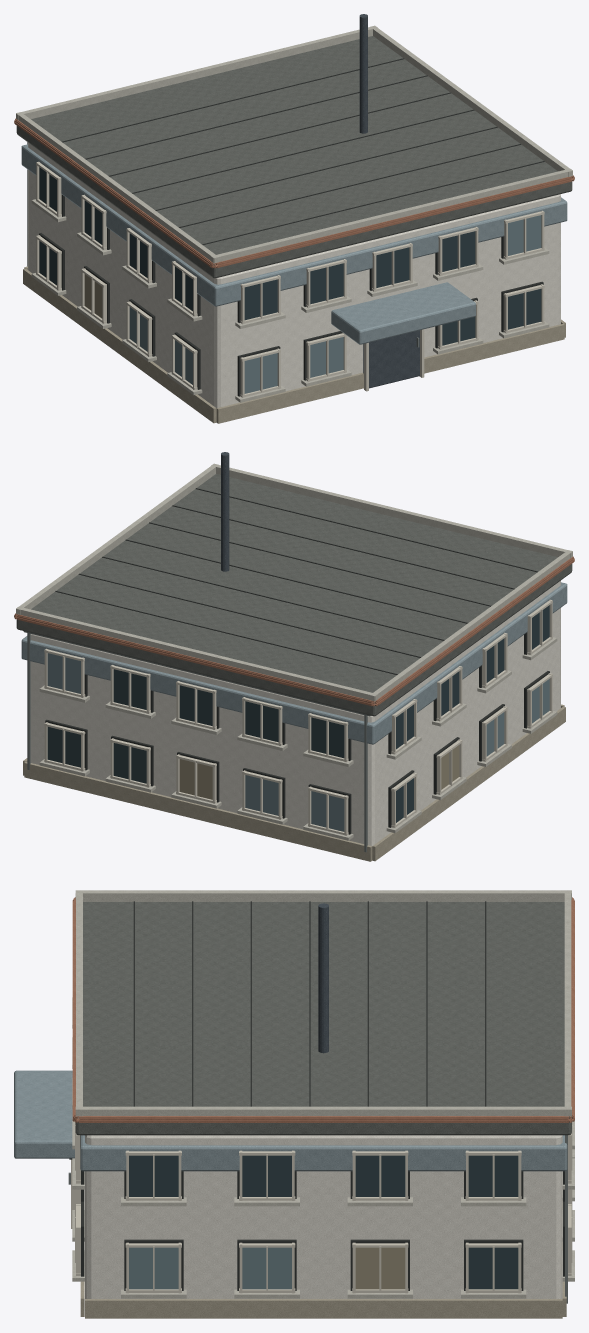
Rendered from CIV_POLICE_2x2_001.glb.
The picture shows the model from 3 angles, top to bottom: view 1: azimuth 30°, elevation 25°; view 2: azimuth 150°, elevation 25°; view 3: azimuth 270°, elevation 25°; orthographic projection. The views are drawn at different scales.
Visible parts, largest first — view 1: CIV_POLICE_2x2_001_Visual; view 2: CIV_POLICE_2x2_001_Visual; view 3: CIV_POLICE_2x2_001_Visual.
Boxes of the visible parts, x1,y1,x2,y2 form: CIV_POLICE_2x2_001_Visual: [14, 14, 574, 423]; CIV_POLICE_2x2_001_Visual: [14, 452, 574, 861]; CIV_POLICE_2x2_001_Visual: [14, 890, 574, 1318].
Size of what is drawn, in the model's own units: 3.41 by 2.49 by 3.64.
Materials: 13 (7 with a texture image).
